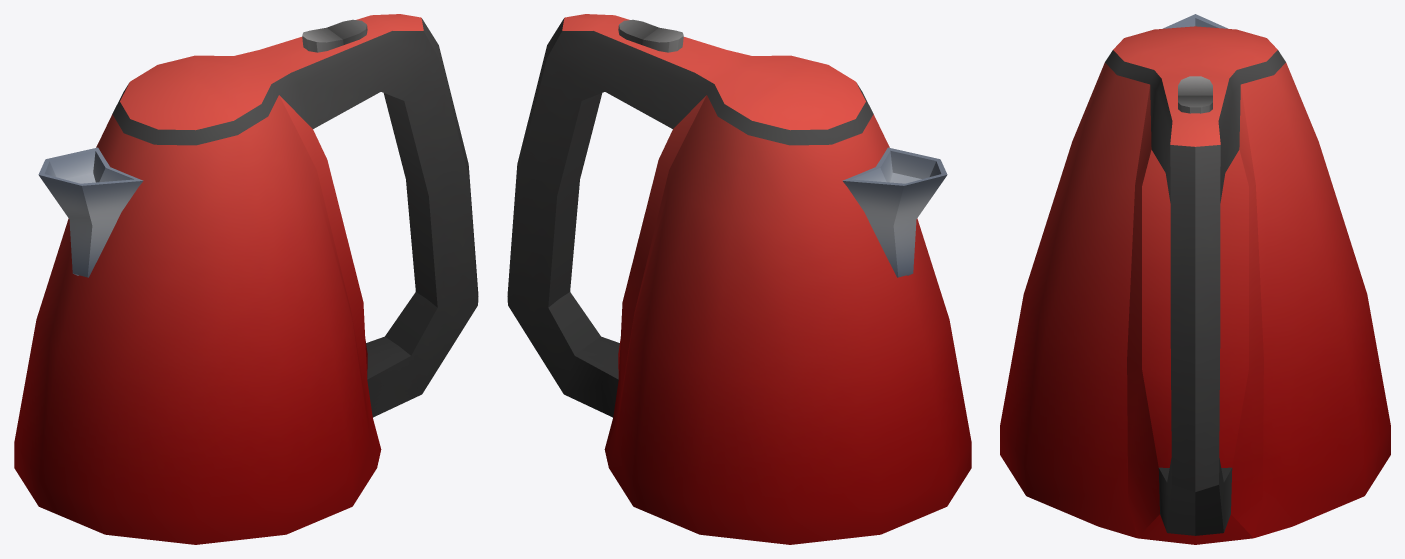
Rendered from Kettle.fbx.
3 renders of one model, left to right at view 1: azimuth 30°, elevation 25°; view 2: azimuth 150°, elevation 25°; view 3: azimuth 270°, elevation 25°, orthographic. The views are drawn at different scales.
Parts seen in each view (by area): view 1: Kettle; view 2: Kettle; view 3: Kettle.
Boxes of the visible parts, x1=… form: Kettle: x1=14, y1=14, x2=478, y2=544; Kettle: x1=507, y1=14, x2=971, y2=544; Kettle: x1=1000, y1=14, x2=1390, y2=544.
Size of the model in its own units: 28.13 by 24.71 by 20.07.
